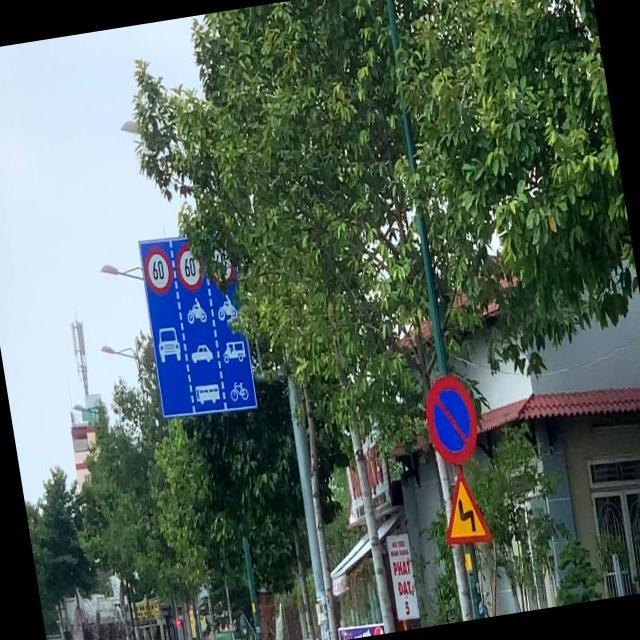P-131a: (421, 372, 483, 470)
W-202a: (432, 462, 490, 550)
